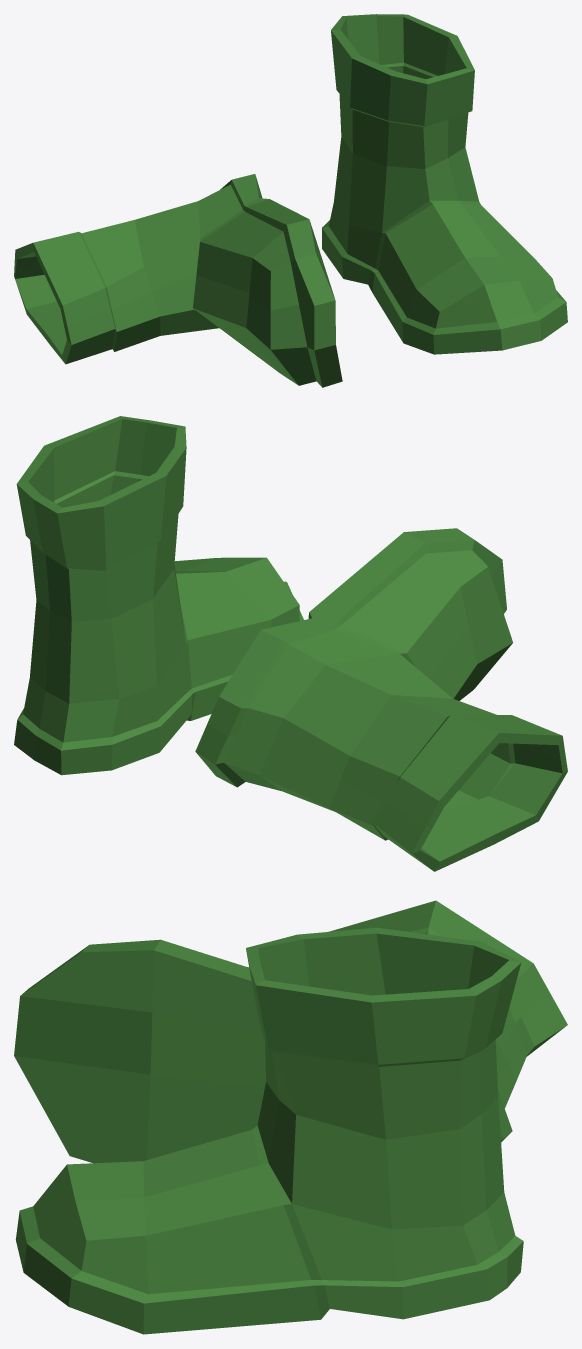
Rendered from Boots.fbx.
3 renders of one model, top to bottom at view 1: azimuth 30°, elevation 25°; view 2: azimuth 150°, elevation 25°; view 3: azimuth 270°, elevation 25°, orthographic. The views are drawn at different scales.
Visible parts, largest first — view 1: Boots; view 2: Boots; view 3: Boots.
Boxes of the visible parts, x1=… form: Boots: x1=14, y1=14, x2=567, y2=387; Boots: x1=14, y1=416, x2=567, y2=871; Boots: x1=14, y1=900, x2=567, y2=1334.
Bounding box in the file's own units: 64.33 × 49.72 × 32.65.
